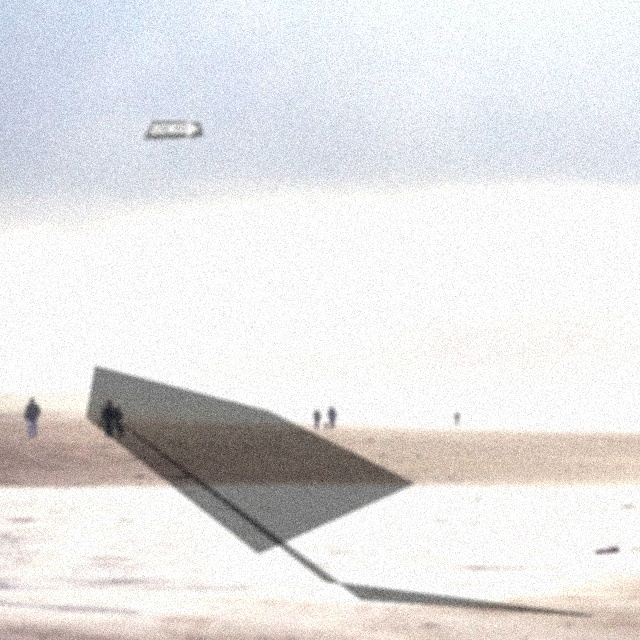ONE_WAY_ right: (142, 120, 204, 140)
